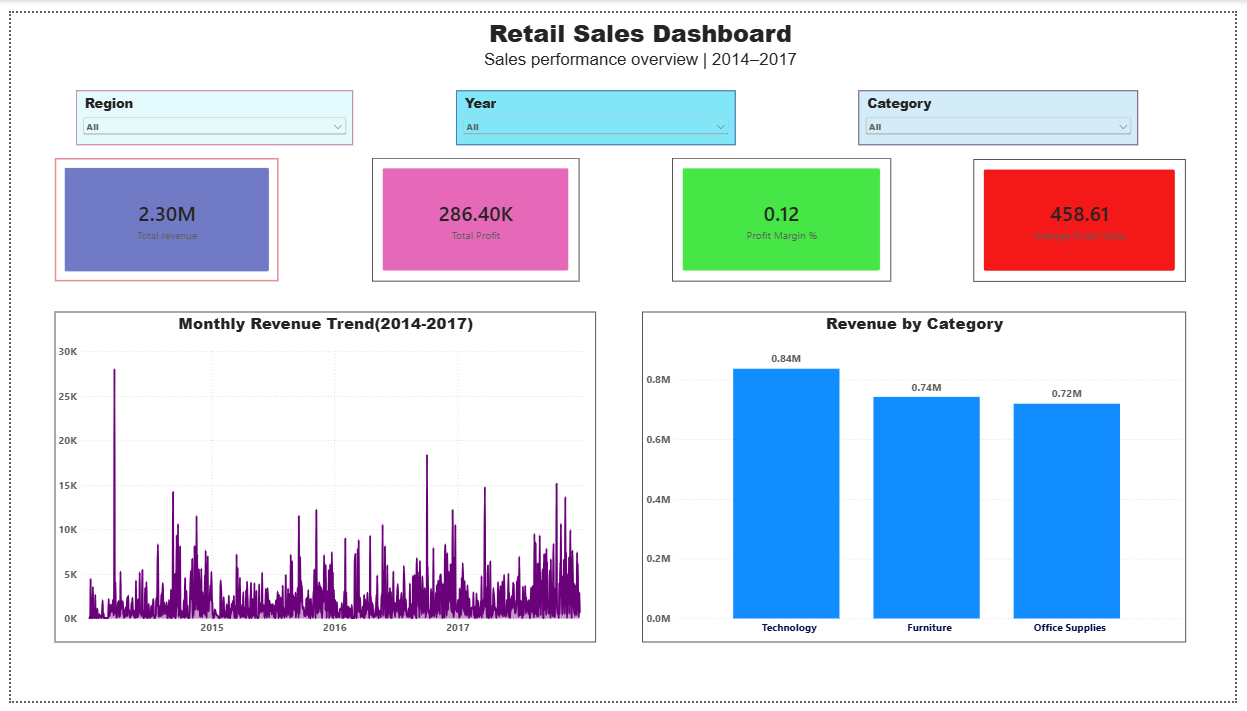

What the dashboard file says about the page in this screenshot:
{"tool":"powerbi","page":{"name":"Sales Overview","canvas":[1920,1080],"ordinal":0},"visuals":[{"type":"cardVisual","fields":{"Data":["Sample - Superstore.Total revenue"]},"box":[69.4,226.5,351,193.9],"z":0},{"type":"cardVisual","fields":{"Data":["Sample - Superstore.Profit Margin %"]},"box":[1036.7,226.5,342.9,193.9],"z":1000},{"type":"cardVisual","fields":{"Data":["Sample - Superstore.Average Order Value"]},"box":[1510.2,228.6,332.7,191.8],"z":2000},{"type":"cardVisual","fields":{"Data":["Sample - Superstore.Total Profit"]},"box":[567.3,226.5,324.5,193.9],"z":3000},{"type":"lineChart","title":"Monthly Revenue Trend(2014-2017)","fields":{"Category":["Sample - Superstore.Order Date.Variation.Date Hierarchy.Year"],"Y":["Sample - Superstore.Total revenue"]},"box":[69.4,469.4,849,518.4],"z":4000},{"type":"clusteredColumnChart","title":"Revenue by Category","fields":{"Category":["Sample - Superstore.Category"],"Y":["Sum(Sample - Superstore.Sales)"]},"box":[989.8,469.4,853.1,518.4],"z":5000},{"type":"slicer","fields":{"Values":["Date.Year"]},"box":[698,122.4,438.8,85.7],"z":6000},{"type":"slicer","fields":{"Values":["Sample - Superstore.Region"]},"box":[102,122.4,434.7,85.7],"z":7000},{"type":"slicer","fields":{"Values":["Sample - Superstore.Category"]},"box":[1328.6,122.4,438.8,85.7],"z":8000},{"type":"textbox","box":[536.7,0,900,106.1],"z":9000}]}

Visuals, with their boxes in screenshot pixels (x1, y1, x2, y2), scaled from the page's 1920x1080 canvas onto the 1247x711 screenshot:
cardVisual - Sample - Superstore.Total revenue: <box>45,149,273,277</box>
cardVisual - Sample - Superstore.Profit Margin %: <box>673,149,896,277</box>
cardVisual - Sample - Superstore.Average Order Value: <box>981,150,1197,277</box>
cardVisual - Sample - Superstore.Total Profit: <box>368,149,579,277</box>
"Monthly Revenue Trend(2014-2017)" lineChart: <box>45,309,596,650</box>
"Revenue by Category" clusteredColumnChart: <box>643,309,1197,650</box>
slicer - Date.Year: <box>453,81,738,137</box>
slicer - Sample - Superstore.Region: <box>66,81,349,137</box>
slicer - Sample - Superstore.Category: <box>863,81,1148,137</box>
textbox: <box>349,0,933,70</box>
